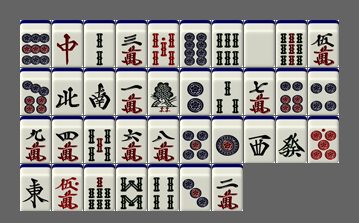0m: (52, 164, 83, 211)
0p: (308, 116, 339, 163)
0s: (148, 20, 179, 67)
1m: (116, 68, 147, 115)
1p: (212, 116, 243, 163)
1s: (148, 68, 179, 115)
1z: (20, 164, 51, 211)
2m: (212, 164, 243, 211)
2p: (180, 68, 211, 115)
2s: (84, 20, 115, 67)
2z: (84, 68, 115, 115)
3m: (116, 20, 147, 67)
3p: (180, 164, 211, 211)
3s: (212, 68, 243, 115)
3z: (244, 116, 275, 163)
4m: (52, 116, 83, 163)
4p: (308, 68, 339, 115)
4s: (148, 164, 179, 211)
4z: (52, 68, 83, 115)
5m: (308, 20, 339, 67)
5p: (180, 116, 211, 163)
5s: (84, 116, 115, 163)
5z: (244, 20, 275, 67)
6m: (116, 116, 147, 163)
6p: (276, 68, 307, 115)
6s: (212, 20, 243, 67)
6z: (276, 116, 307, 163)
7m: (244, 68, 275, 115)
7p: (20, 68, 51, 115)
7s: (84, 164, 115, 211)
7z: (52, 20, 83, 67)
8m: (148, 116, 179, 163)
8p: (180, 20, 211, 67)
8s: (116, 164, 147, 211)
9m: (20, 116, 51, 163)
9p: (20, 20, 51, 67)
9s: (276, 20, 307, 67)
